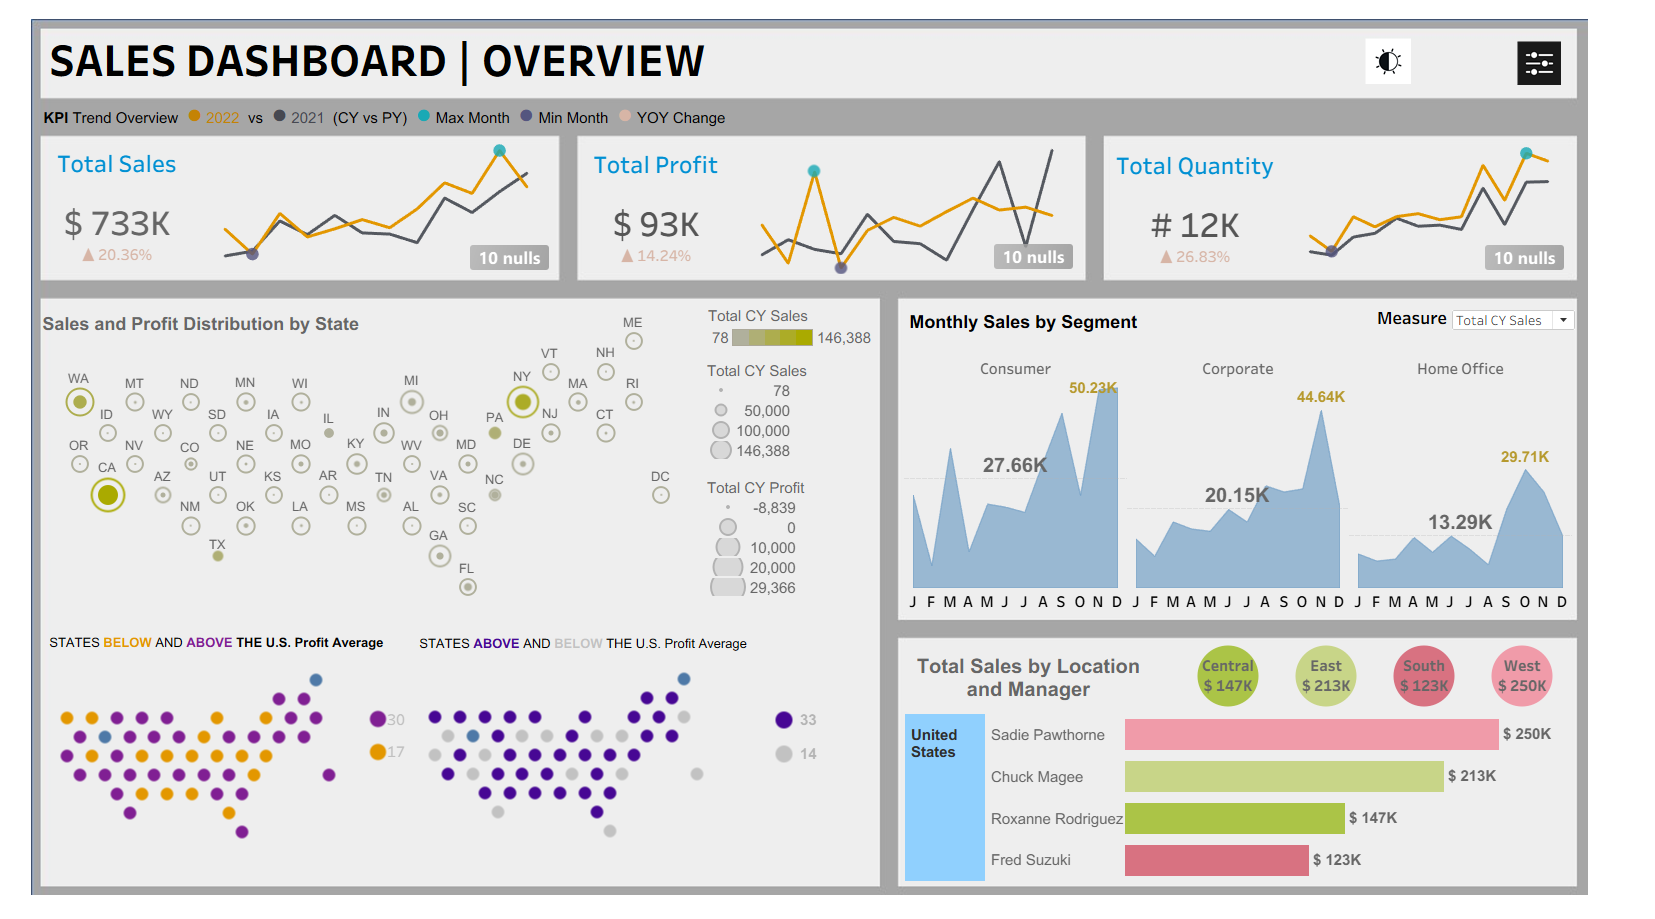

Layout of this report page (visuals, bound fields, positions):
{"tool":"tableau","page":{"name":"Sales Dashboard","canvas":[1600,900],"ordinal":0},"visuals":[{"type":"image","param":"C:/Users/123ra/OneDrive/Desktop/Sales Dashboard Background/Slide4.JPG","box":[8,8,1584,884]},{"type":"text","box":[36,16,759,70]},{"type":"filter","title":"Sales and Profit by State ","param":"[federated.1atlnmu0addl1l1gwix4g1qseh0k].[none:Category:nk]","box":[1399,23,96,57]},{"type":"dashboard-object","box":[1344,32,56,49]},{"type":"dashboard-object","box":[1501,34,56,44]},{"type":"filter","title":"Sales and Profit by State ","param":"[federated.1atlnmu0addl1l1gwix4g1qseh0k].[none:Region:nk]","box":[1399,80,96,57]},{"type":"text","box":[30,92,688,35]},{"type":"worksheet","title":"Sales KPI","mark":"Automatic","box":[31,128,152,144]},{"type":"worksheet","title":"Sales Sparkline","mark":"Automatic","rows":["Calculation_0402745724579840"],"cols":["Order Date"],"box":[183,128,365,144]},{"type":"worksheet","title":"Profit KPI ","mark":"Automatic","box":[570,131,151,140]},{"type":"worksheet","title":"Profit Sparkline","mark":"Automatic","rows":["min max sales (copy)_0402745730015233"],"cols":["Order Date"],"box":[721,131,351,140]},{"type":"worksheet","title":"Quantity KPI ","mark":"Automatic","box":[1096,131,178,141]},{"type":"worksheet","title":"Quantity Sparkline","mark":"Automatic","rows":["min max sales (copy)_0402745733791746"],"cols":["Order Date"],"box":[1274,131,289,141]},{"type":"filter","title":"Sales and Profit by State ","param":"[federated.1atlnmu0addl1l1gwix4g1qseh0k].[none:Ship Mode:nk]","box":[1399,137,96,57]},{"type":"legend","title":"Sales and Profit by State ","param":"[federated.1atlnmu0addl1l1gwix4g1qseh0k].[sum:Calculation_0149308047835136:qk]","box":[698,300,168,48]},{"type":"text","box":[896,300,257,30]},{"type":"parameter","param":"[Parameters].[Parameter 0402746558570507]","box":[1367,300,201,30]},{"type":"text","box":[29,302,336,30]},{"type":"worksheet","title":"Sales and Profit by State ","mark":"Circle","rows":["Row"],"cols":["Column","Column"],"box":[27,303,662,308]},{"type":"worksheet","title":"Month Sales By Segment","mark":"Area","rows":["Calculation_0402746559078412"],"cols":["Segment","Order Date"],"box":[894,351,668,255]},{"type":"legend","title":"Sales and Profit by State ","param":"[federated.1atlnmu0addl1l1gwix4g1qseh0k].[sum:Calculation_0149308047835136:qk]","box":[697,355,163,106]},{"type":"legend","title":"Sales and Profit by State ","param":"[federated.1atlnmu0addl1l1gwix4g1qseh0k].[sum:Total CY Sales (copy)_014930805576","box":[697,472,140,127]},{"type":"text","box":[406,622,343,30]},{"type":"text","box":[36,625,348,21]},{"type":"worksheet","title":"Region wise Sales","mark":"Circle","cols":["Region"],"box":[1169,634,392,69]},{"type":"text","box":[901,637,235,67]},{"type":"worksheet","title":"Avg Profit by State","mark":"Circle","rows":["Row"],"cols":["Column"],"box":[406,653,300,190]},{"type":"worksheet","title":"Avg Sales by State","mark":"Circle","rows":["Row"],"cols":["Column"],"box":[38,654,300,190]},{"type":"worksheet","title":"Avg Sales by State Count","mark":"Circle","rows":["Calculation_0402746541285383"],"box":[338,696,60,65]},{"type":"worksheet","title":"Avg Profit by State Count","mark":"Circle","rows":["Sales Avg Color (copy)_0402746544267274"],"box":[738,696,72,68]},{"type":"worksheet","title":"Total Sales By Local and Manager","mark":"Automatic","rows":["Country/Region","Regional Manager"],"cols":["Calculation_0149308047835136"],"box":[895,707,670,167]}]}

Visuals, with their boxes in screenshot pixels (x1, y1, x2, y2), scaled from the page's 1600x900 canvas onto the 1655x919 screenshot:
image: BBox(8, 8, 1647, 911)
text: BBox(37, 16, 822, 88)
"Sales and Profit by State " filter: BBox(1447, 23, 1546, 82)
dashboard-object: BBox(1390, 33, 1448, 83)
dashboard-object: BBox(1553, 35, 1611, 80)
"Sales and Profit by State " filter: BBox(1447, 82, 1546, 140)
text: BBox(31, 94, 743, 130)
"Sales KPI" worksheet: BBox(32, 131, 189, 278)
"Sales Sparkline" worksheet: BBox(189, 131, 567, 278)
"Profit KPI " worksheet: BBox(590, 134, 746, 277)
"Profit Sparkline" worksheet: BBox(746, 134, 1109, 277)
"Quantity KPI " worksheet: BBox(1134, 134, 1318, 278)
"Quantity Sparkline" worksheet: BBox(1318, 134, 1617, 278)
"Sales and Profit by State " filter: BBox(1447, 140, 1546, 198)
"Sales and Profit by State " legend: BBox(722, 306, 896, 355)
text: BBox(927, 306, 1193, 337)
parameter: BBox(1414, 306, 1622, 337)
text: BBox(30, 308, 378, 339)
"Sales and Profit by State " worksheet (Circle marks): BBox(28, 309, 713, 624)
"Month Sales By Segment" worksheet (Area marks): BBox(925, 358, 1616, 619)
"Sales and Profit by State " legend: BBox(721, 362, 890, 471)
"Sales and Profit by State " legend: BBox(721, 482, 866, 612)
text: BBox(420, 635, 775, 666)
text: BBox(37, 638, 397, 660)
"Region wise Sales" worksheet (Circle marks): BBox(1209, 647, 1615, 718)
text: BBox(932, 650, 1175, 719)
"Avg Profit by State" worksheet (Circle marks): BBox(420, 667, 730, 861)
"Avg Sales by State" worksheet (Circle marks): BBox(39, 668, 350, 862)
"Avg Sales by State Count" worksheet (Circle marks): BBox(350, 711, 412, 777)
"Avg Profit by State Count" worksheet (Circle marks): BBox(763, 711, 838, 780)
"Total Sales By Local and Manager" worksheet: BBox(926, 722, 1619, 892)
